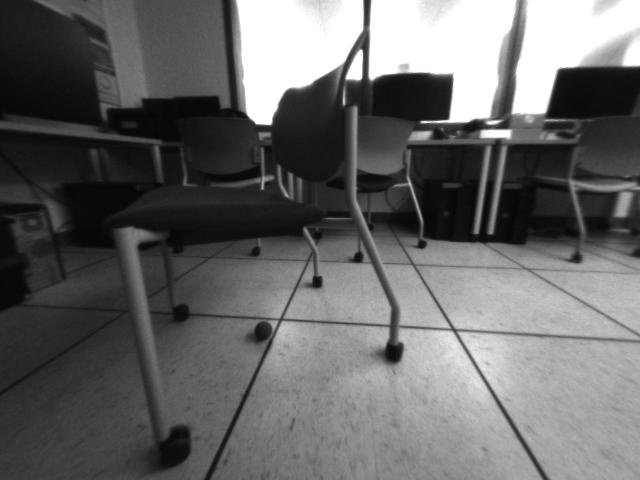dogtoy: (250, 318, 280, 344)
